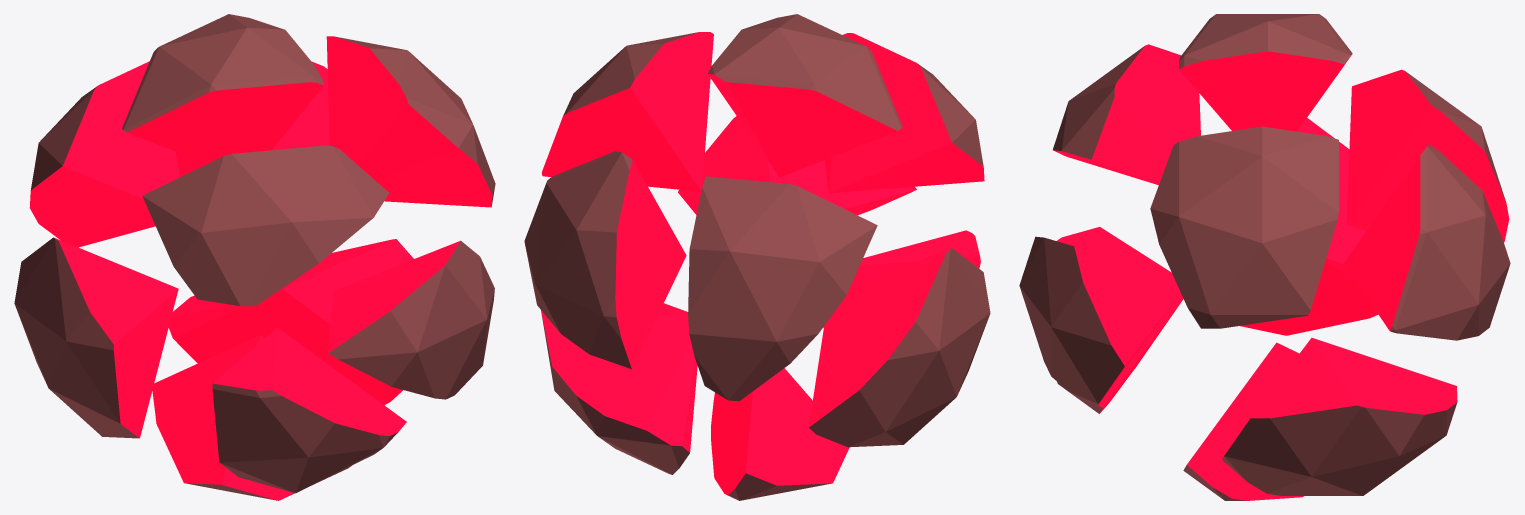
The model's file is Crystal1.fbx.
3 renders of one model, left to right at view 1: azimuth 30°, elevation 25°; view 2: azimuth 150°, elevation 25°; view 3: azimuth 270°, elevation 25°, orthographic.
Visible parts, largest first — view 1: Crystal1_cell.004, Crystal1_cell.005, Crystal1_cell.001, Crystal1_cell.003, Crystal1_cell.006, Crystal1_cell.008, Crystal1_cell.000, Crystal1_cell.007, Crystal1_cell.009, Crystal1_cell.002; view 2: Crystal1_cell.000, Crystal1_cell.005, Crystal1_cell.002, Crystal1_cell.001, Crystal1_cell.003, Crystal1_cell.007, Crystal1_cell.004, Crystal1_cell.009, Crystal1_cell.008, Crystal1_cell.006; view 3: Crystal1_cell.003, Crystal1_cell.007, Crystal1_cell.002, Crystal1_cell.008, Crystal1_cell.001, Crystal1_cell.000, Crystal1_cell.004, Crystal1_cell.005, Crystal1_cell.009, Crystal1_cell.006.
Boxes of the visible parts, box(x1,y1,x2,y2) form: Crystal1_cell.004: box(142, 145, 389, 306); Crystal1_cell.005: box(14, 237, 178, 438); Crystal1_cell.001: box(122, 14, 323, 163); Crystal1_cell.003: box(326, 36, 495, 207); Crystal1_cell.006: box(212, 327, 406, 493); Crystal1_cell.008: box(328, 240, 494, 399); Crystal1_cell.000: box(29, 61, 179, 247); Crystal1_cell.007: box(168, 239, 413, 405); Crystal1_cell.009: box(152, 335, 351, 500); Crystal1_cell.002: box(175, 61, 329, 176); Crystal1_cell.000: box(688, 176, 877, 401); Crystal1_cell.005: box(808, 248, 990, 447); Crystal1_cell.002: box(524, 151, 686, 369); Crystal1_cell.001: box(707, 14, 902, 177); Crystal1_cell.003: box(542, 32, 713, 191); Crystal1_cell.007: box(541, 303, 697, 474); Crystal1_cell.004: box(825, 33, 984, 193); Crystal1_cell.009: box(711, 368, 849, 500); Crystal1_cell.008: box(678, 116, 916, 215); Crystal1_cell.006: box(823, 230, 980, 327); Crystal1_cell.003: box(1150, 126, 1338, 328); Crystal1_cell.007: box(1222, 337, 1457, 495); Crystal1_cell.002: box(1344, 144, 1510, 340); Crystal1_cell.008: box(1019, 236, 1180, 407); Crystal1_cell.001: box(1179, 14, 1352, 131); Crystal1_cell.000: box(1346, 69, 1509, 242); Crystal1_cell.004: box(1053, 44, 1200, 185); Crystal1_cell.005: box(1240, 118, 1378, 335); Crystal1_cell.009: box(1183, 342, 1303, 500); Crystal1_cell.006: box(1057, 227, 1183, 413).
Bounding box in the file's own units: 5072 × 5427 × 5211.
